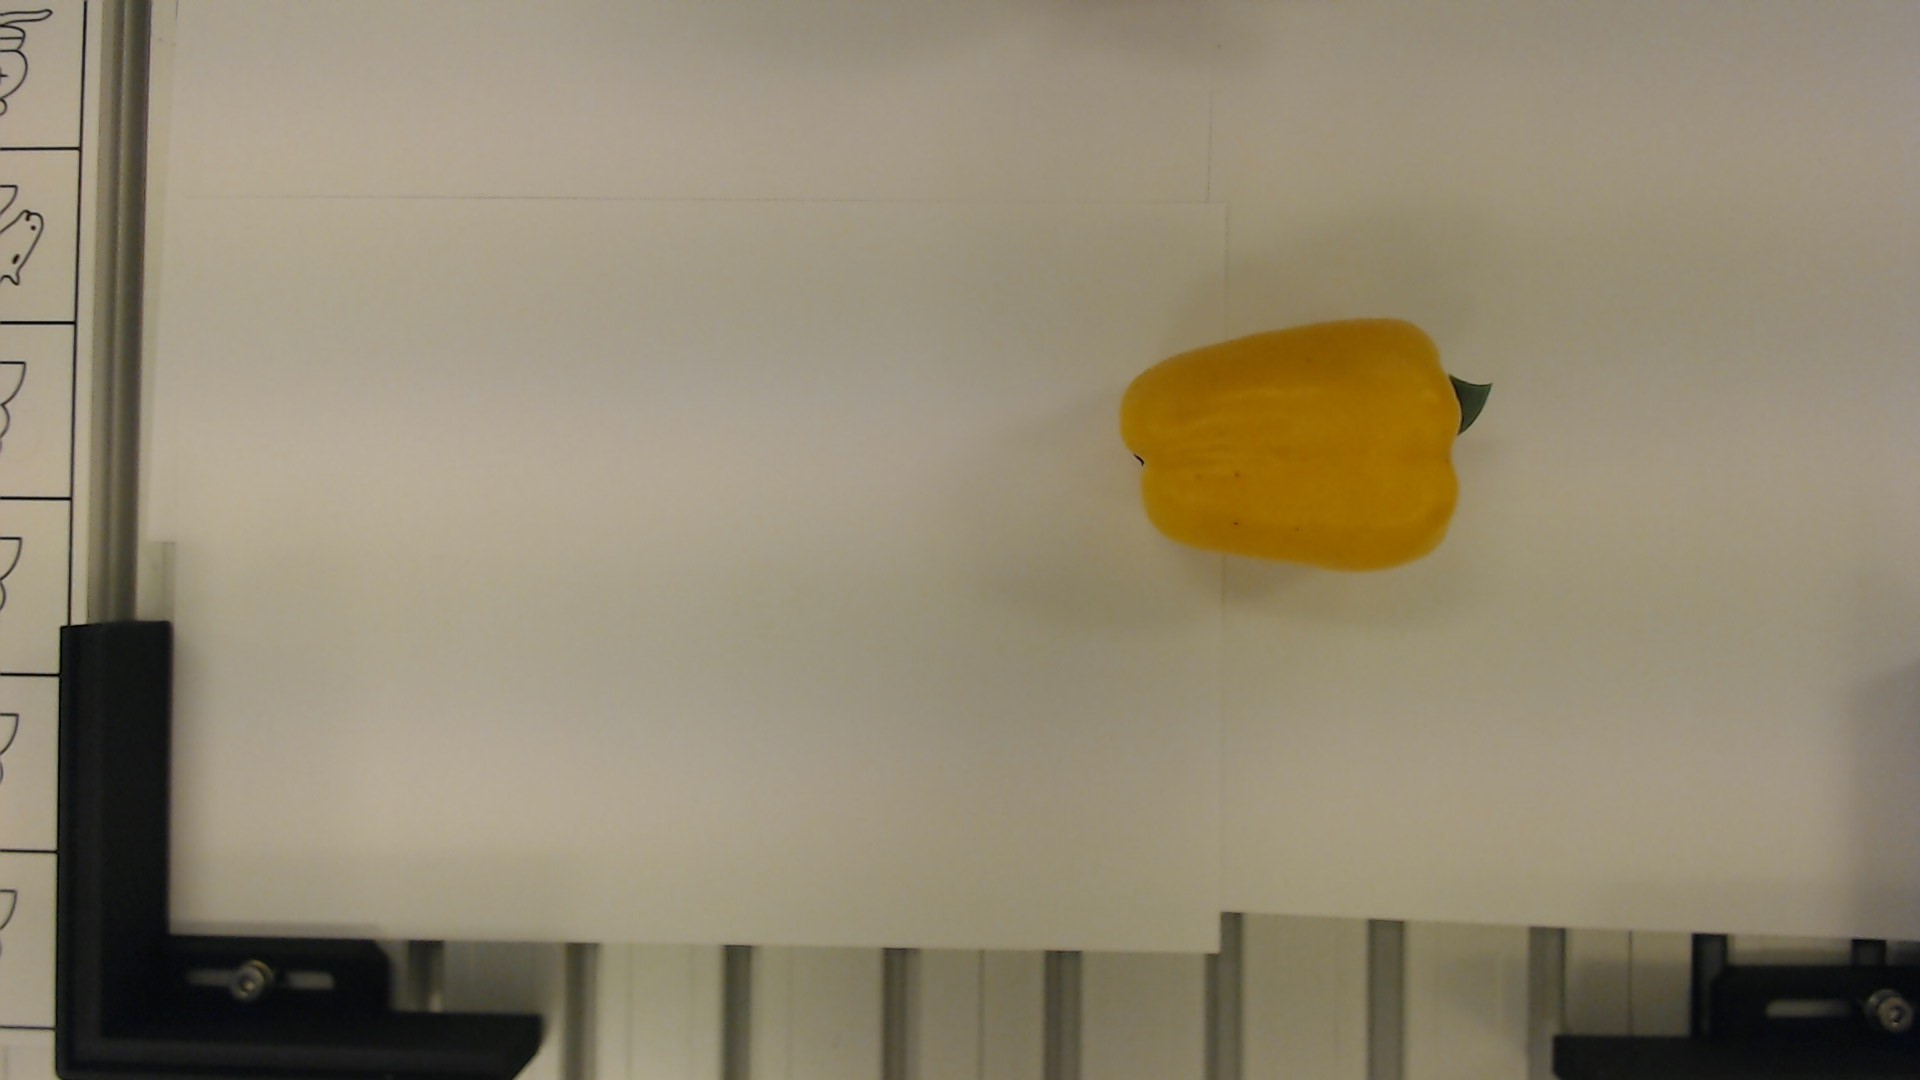Yellow Bell Pepper: (1114, 306, 1499, 574)
